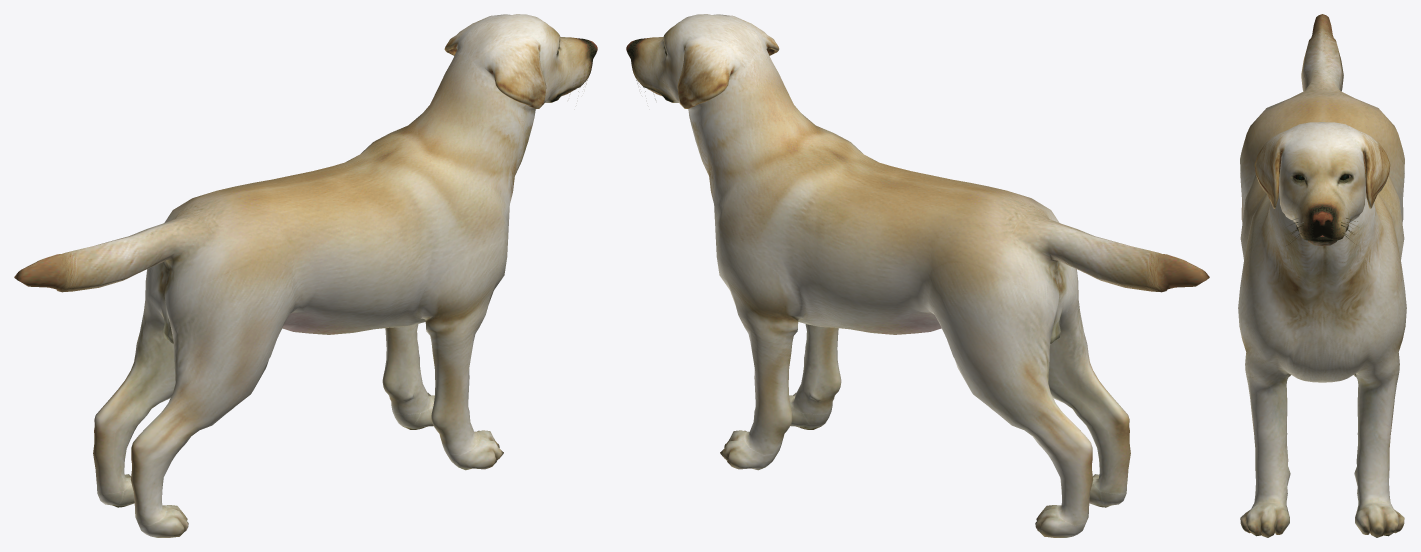
File: sm_dog.fbx
The picture shows the model from 3 angles, left to right: view 1: azimuth 30°, elevation 25°; view 2: azimuth 150°, elevation 25°; view 3: azimuth 270°, elevation 25°; orthographic projection. The views are drawn at different scales.
Parts seen in each view (by area): view 1: sm_dog; view 2: sm_dog; view 3: sm_dog.
Boxes of the visible parts, x1,y1,x2,y2 form: sm_dog: (14, 14, 597, 537); sm_dog: (626, 14, 1209, 537); sm_dog: (1238, 14, 1406, 537).
Bounding box in the file's own units: 1.24 × 0.8411 × 0.2949.
Materials: 2 (2 with a texture image).
